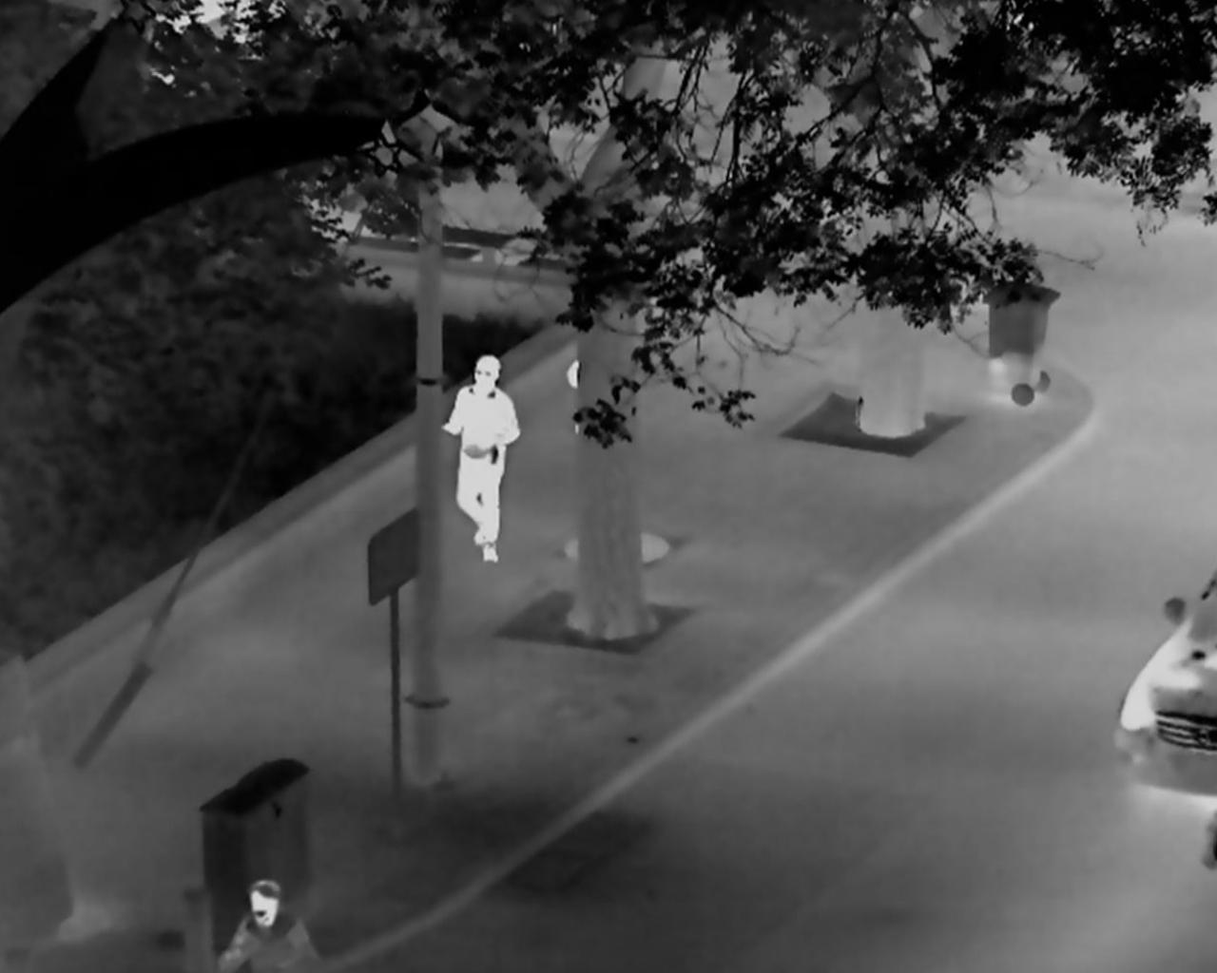person: (442, 353, 520, 563), (219, 877, 321, 973)
